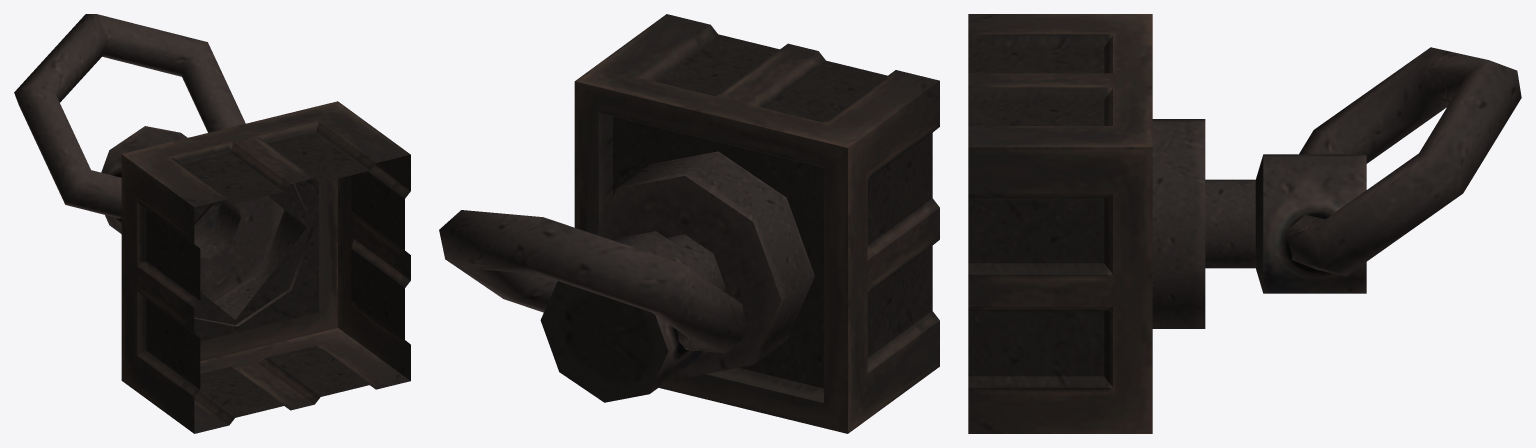
The model's file is huoshan_Wujian_07.FBX.
3 renders of one model, left to right at view 1: azimuth 30°, elevation 25°; view 2: azimuth 150°, elevation 25°; view 3: azimuth 270°, elevation 25°, orthographic. The views are drawn at different scales.
Visible parts, largest first — view 1: huoshan_Wujian_07; view 2: huoshan_Wujian_07; view 3: huoshan_Wujian_07.
Part boxes in pixels (bbox=[...]): huoshan_Wujian_07: bbox=[14, 14, 410, 433]; huoshan_Wujian_07: bbox=[439, 14, 939, 433]; huoshan_Wujian_07: bbox=[968, 14, 1521, 433].
Bounding box in the file's own units: 254 × 272 × 444.
